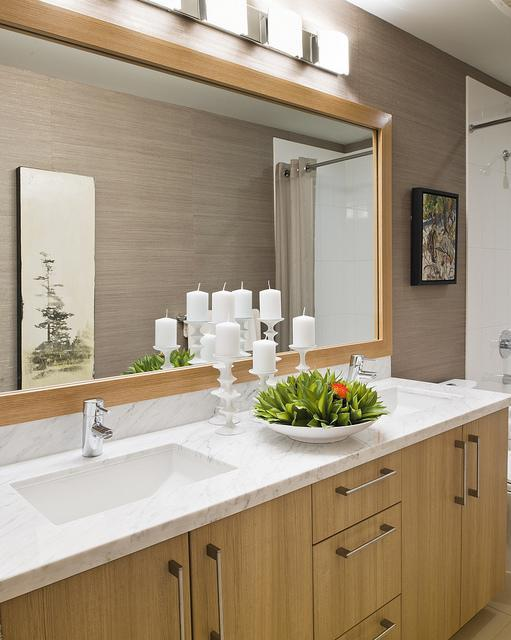Ducha: (460, 89, 510, 534)
Lavamanos: (10, 383, 236, 539), (318, 358, 461, 424)
